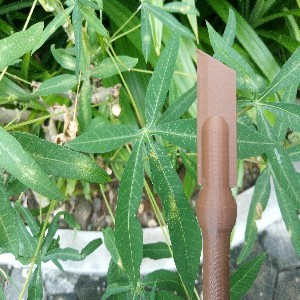cutter: (194, 48, 238, 300)
